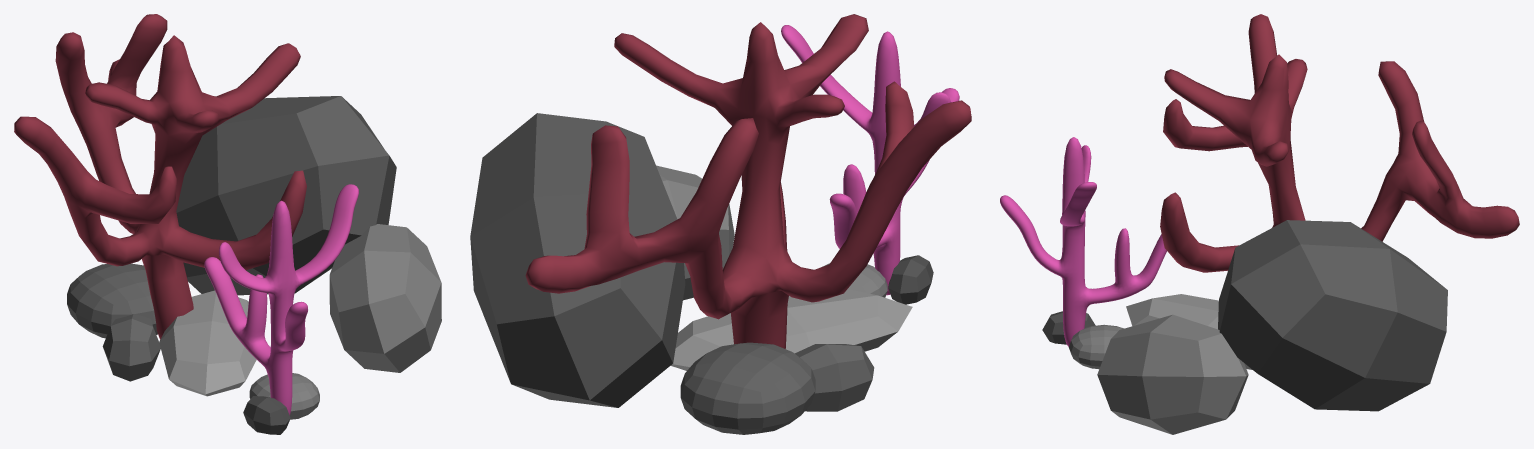
Rendered from Corals3.fbx.
The picture shows the model from 3 angles, left to right: view 1: azimuth 30°, elevation 25°; view 2: azimuth 150°, elevation 25°; view 3: azimuth 270°, elevation 25°; orthographic projection. The views are drawn at different scales.
Visible parts, largest first — view 1: Cube, Cube.005, Cube.006, Cube.001, Cube.003, Cube.002, Cube.004, Cube.008, Cube.007; view 2: Cube, Cube.005, Cube.002, Cube.003, Cube.001, Cube.004, Cube.006, Cube.008, Cube.007; view 3: Cube.005, Cube, Cube.006, Cube.001, Cube.003, Cube.007, Cube.008.
Boxes of the visible parts, box(x1,y1,x2,y2) form: Cube: box(14, 14, 306, 339); Cube.005: box(176, 96, 396, 295); Cube.006: box(329, 224, 441, 372); Cube.001: box(204, 184, 358, 415); Cube.003: box(159, 290, 256, 396); Cube.002: box(67, 263, 157, 338); Cube.004: box(102, 314, 160, 381); Cube.008: box(243, 396, 290, 434); Cube.007: box(249, 373, 319, 419); Cube: box(525, 14, 971, 348); Cube.005: box(470, 113, 685, 407); Cube.002: box(680, 342, 815, 434); Cube.003: box(670, 289, 912, 370); Cube.001: box(781, 25, 959, 295); Cube.004: box(795, 344, 874, 411); Cube.006: box(656, 165, 734, 300); Cube.008: box(888, 255, 933, 304); Cube.007: box(822, 263, 887, 297); Cube.005: box(1218, 220, 1447, 411); Cube: box(1160, 14, 1519, 272); Cube.006: box(1097, 314, 1248, 434); Cube.001: box(1000, 137, 1166, 346); Cube.003: box(1126, 294, 1252, 369); Cube.007: box(1068, 324, 1123, 369); Cube.008: box(1042, 311, 1095, 344).
Bounding box in the file's own units: 1178 × 927 × 1417.
